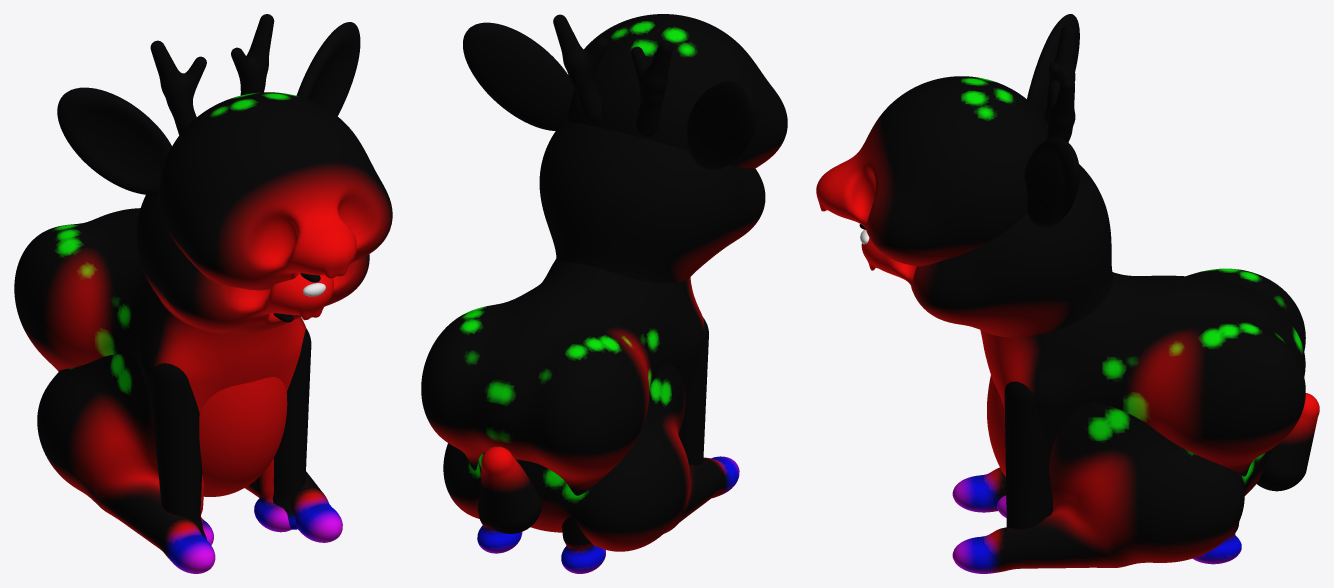
The model's file is deer.glb.
3 views of the same model, side by side, from view 1: azimuth 30°, elevation 25°; view 2: azimuth 150°, elevation 25°; view 3: azimuth 270°, elevation 25° (orthographic). The views are drawn at different scales.
Parts seen in each view (by area): view 1: bodyStand, body, earR, armR, armL, earL, antlerR, antlerL; view 2: bodyStand, body, earL, earR, tail, antlerL, antlerR, armR; view 3: bodyStand, body, armL, earL, tail, earR, antlerL, antlerR.
Boxes of the visible parts, left/top/right/bottom form: bodyStand: left=14, top=92, right=392, bottom=545; body: left=37, top=191, right=369, bottom=573; earR: left=57, top=87, right=171, bottom=194; armR: left=151, top=363, right=207, bottom=540; armL: left=272, top=328, right=311, bottom=529; earL: left=296, top=22, right=360, bottom=116; antlerR: left=150, top=40, right=206, bottom=135; antlerL: left=231, top=14, right=274, bottom=95; bodyStand: left=421, top=14, right=787, bottom=573; body: left=443, top=121, right=765, bottom=551; earL: left=463, top=22, right=573, bottom=130; earR: left=687, top=81, right=756, bottom=169; tail: left=479, top=446, right=542, bottom=533; antlerL: left=553, top=14, right=607, bottom=123; antlerR: left=631, top=40, right=672, bottom=136; armR: left=681, top=317, right=708, bottom=464; bodyStand: left=816, top=76, right=1305, bottom=564; body: left=861, top=164, right=1272, bottom=573; armL: left=1004, top=381, right=1048, bottom=529; earL: left=1024, top=138, right=1079, bottom=227; tail: left=1257, top=393, right=1319, bottom=491; earR: left=1027, top=14, right=1079, bottom=117; antlerL: left=1046, top=78, right=1075, bottom=142; antlerR: left=1044, top=25, right=1075, bottom=122.
Bounding box in the file's own units: 0.265 × 0.4154 × 0.388.
